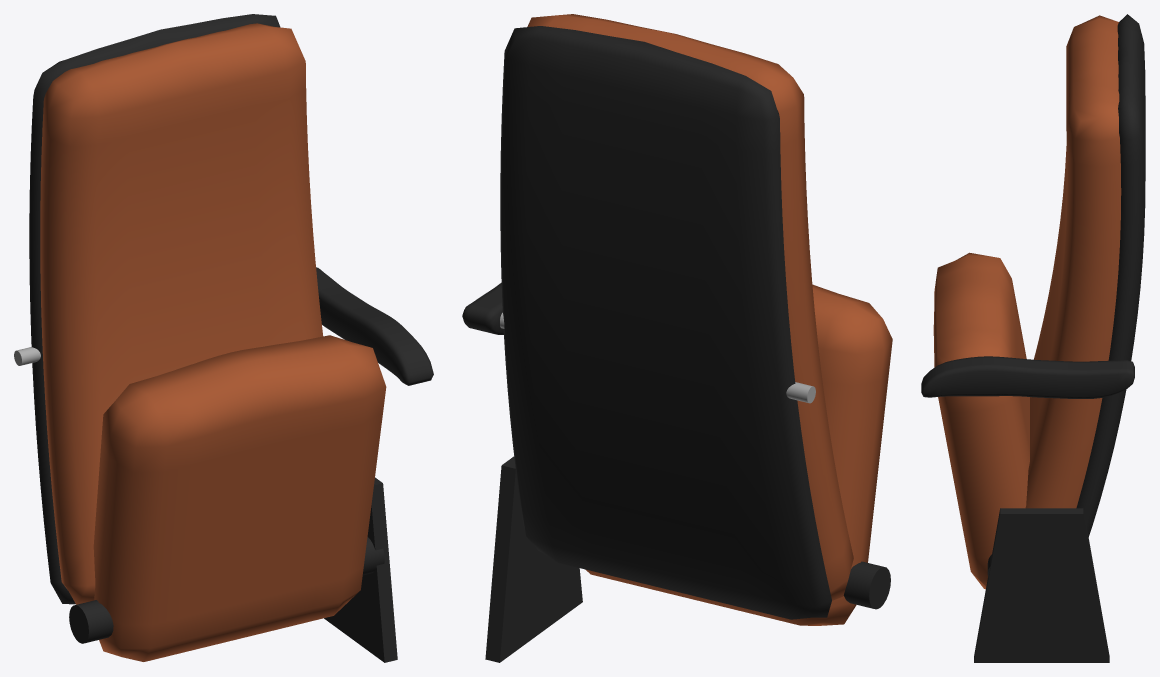
The model's file is sillasDer.fbx.
3 views of the same model, side by side, from view 1: azimuth 30°, elevation 25°; view 2: azimuth 150°, elevation 25°; view 3: azimuth 270°, elevation 25° (orthographic). The views are drawn at different scales.
Parts seen in each view (by area): view 1: pCube23, pCube26, pCube25, pCube24, pCube27, pCylinder5; view 2: pCube25, pCube23, pCube26, pCube27, pCylinder5, pCube24; view 3: pCube23, pCube26, pCube27, pCube25, pCube24.
Part boxes in pixels (<box>): pCube23: <box>40,23,323,604</box>; pCube26: <box>93,335,386,661</box>; pCube25: <box>29,14,280,604</box>; pCube24: <box>316,267,433,385</box>; pCube27: <box>324,477,397,662</box>; pCylinder5: <box>69,537,384,643</box>; pCube25: <box>500,26,831,619</box>; pCube23: <box>527,14,853,600</box>; pCube26: <box>585,284,892,625</box>; pCube27: <box>485,456,582,662</box>; pCylinder5: <box>843,561,890,609</box>; pCube24: <box>462,282,503,334</box>; pCube23: <box>1025,15,1121,508</box>; pCube26: <box>933,252,1029,589</box>; pCube27: <box>974,508,1109,662</box>; pCube25: <box>1076,14,1145,536</box>; pCube24: <box>921,356,1134,398</box>.
Bounding box in the file's own units: 2.75 × 5.13 × 1.91.
